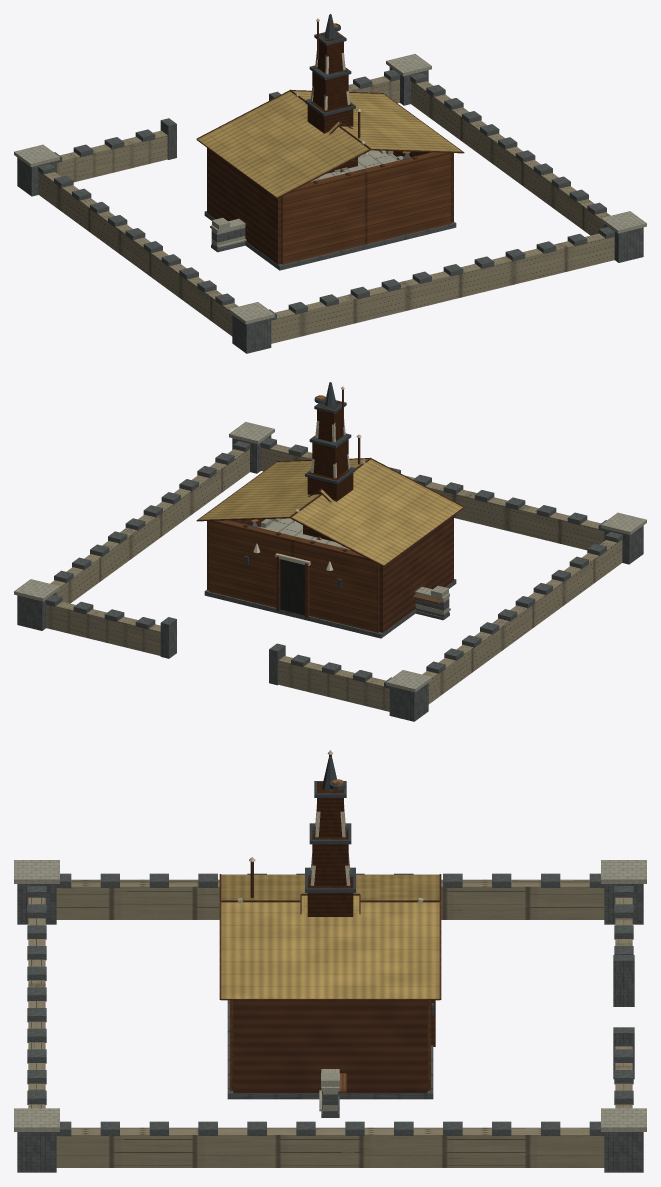
The model's file is environment_kit.glb.
The picture shows the model from 3 angles, top to bottom: view 1: azimuth 30°, elevation 25°; view 2: azimuth 150°, elevation 25°; view 3: azimuth 270°, elevation 25°; orthographic projection. The views are drawn at different scales.
Visible parts, largest first — view 1: rival_wall_ring, ork_hall, ork_spire, wall_15, keep_core; view 2: rival_wall_ring, ork_hall, ork_spire, wall_15, keep_core; view 3: rival_wall_ring, ork_hall, ork_spire, wall_15.
Part boxes in pixels (x1,y1,x2,y2): rival_wall_ring: (14, 54, 646, 353); ork_hall: (196, 89, 464, 270); ork_spire: (305, 14, 357, 173); wall_15: (210, 217, 246, 252); keep_core: (311, 150, 403, 181); rival_wall_ring: (14, 422, 646, 721); ork_hall: (196, 434, 464, 638); ork_spire: (303, 382, 355, 541); wall_15: (412, 585, 450, 620); keep_core: (261, 518, 349, 549); rival_wall_ring: (14, 860, 646, 1172); ork_hall: (219, 857, 441, 1099); ork_spire: (305, 750, 355, 916); wall_15: (319, 1069, 346, 1117).
Bounding box in the file's own units: 25.88 × 12.76 × 25.88.
2 materials, 2 textured.
